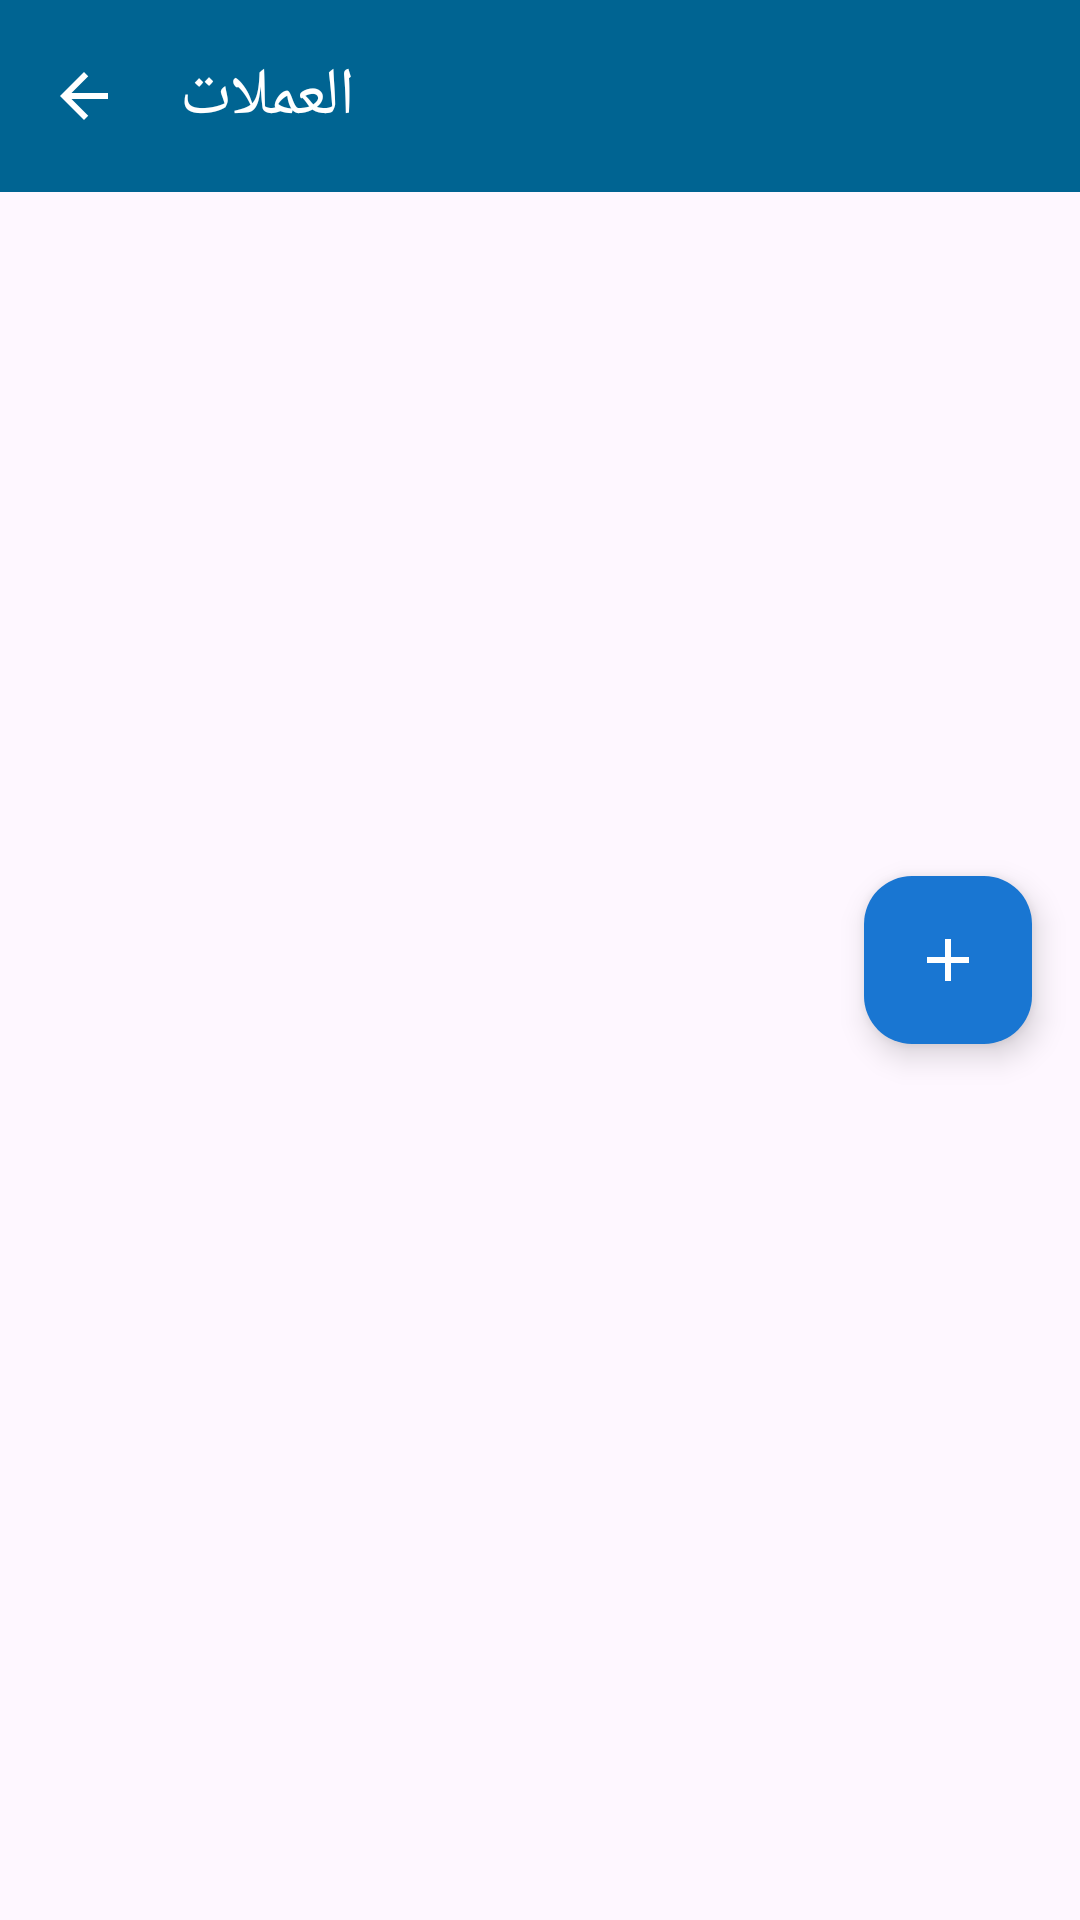

Icons on this 1080w x 1920h Android screen, each with the point to tap as (x=x, y=y):
إضافة عملة جديدة: (x=948, y=960)
